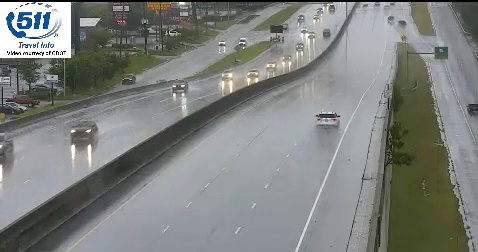car: (315, 111, 340, 128)
